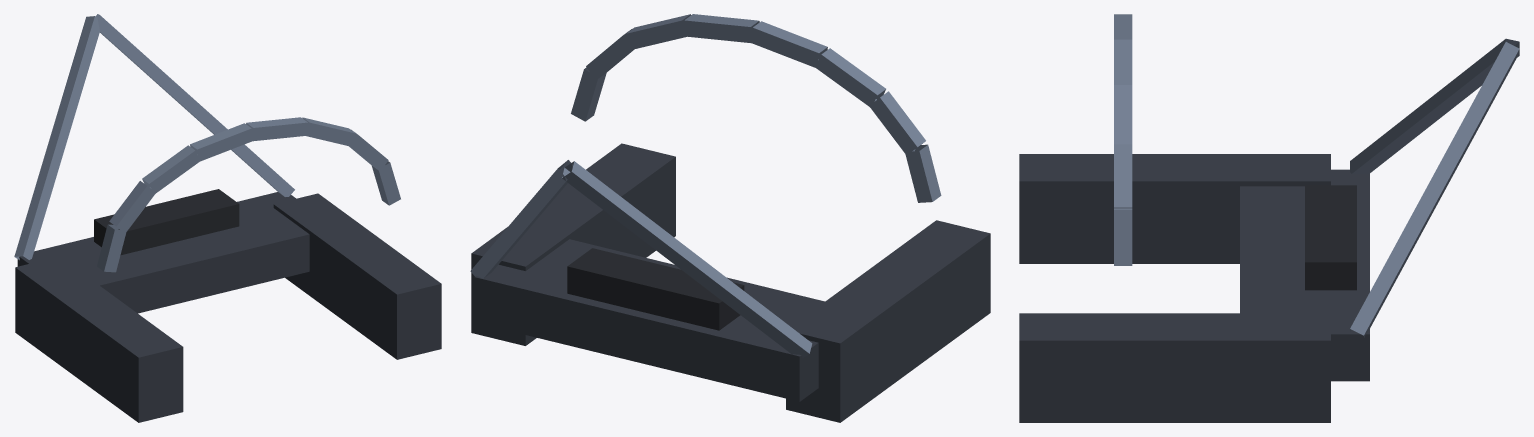
The model's file is dart_cockpit.obj.
3 views of the same model, side by side, from view 1: azimuth 30°, elevation 25°; view 2: azimuth 150°, elevation 25°; view 3: azimuth 270°, elevation 25° (orthographic). The views are drawn at different scales.
Bounding box in the file's own units: 1.7 × 1.23 × 1.93.
